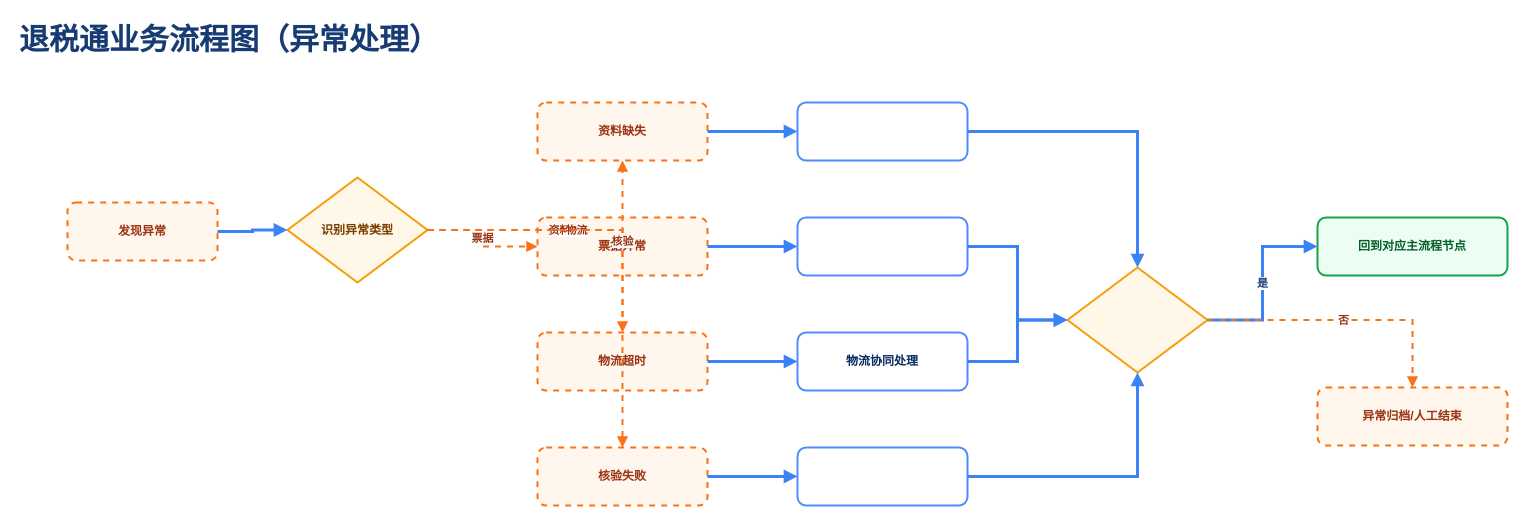
The diagram is 1525 pixels wide and 523 high, and some of its shapes have lost their labels. Here are the shapes that lost their labels. From the top down, the box of each, then its label:
(796, 101, 968, 161): 用户补充资料
(796, 216, 968, 276): 商户补录票据
(1066, 266, 1208, 373): 是否处理完成？
(796, 446, 968, 506): 现场人工复核
